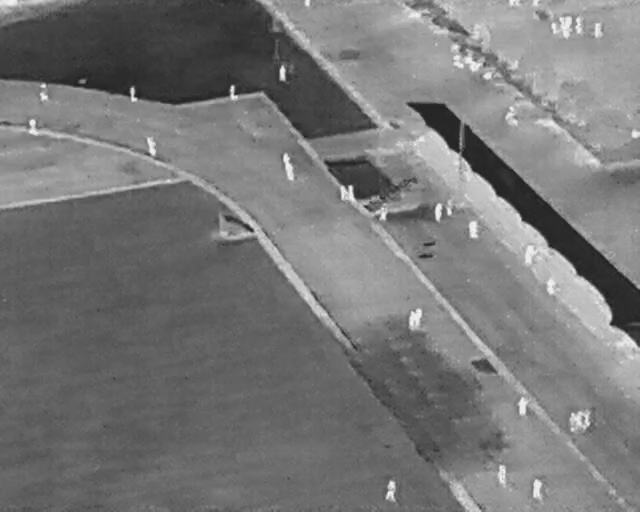DontCare: (447, 37, 497, 81), (551, 14, 584, 40)
Person: (506, 104, 520, 127), (385, 478, 397, 502), (517, 396, 529, 416), (468, 219, 479, 240), (39, 81, 50, 102), (27, 117, 39, 136), (147, 135, 157, 156), (498, 463, 507, 486), (533, 478, 543, 498), (434, 201, 443, 222), (547, 277, 557, 295), (568, 411, 576, 432), (595, 21, 604, 39), (379, 203, 388, 221), (576, 411, 585, 429), (286, 164, 295, 181), (283, 151, 291, 170), (409, 310, 416, 330), (129, 85, 137, 102), (230, 83, 238, 100), (446, 198, 453, 217), (348, 183, 355, 202), (339, 184, 347, 200), (279, 64, 286, 82), (416, 307, 422, 326), (531, 0, 539, 6), (515, 0, 521, 8), (304, 0, 310, 6), (508, 0, 514, 6)
